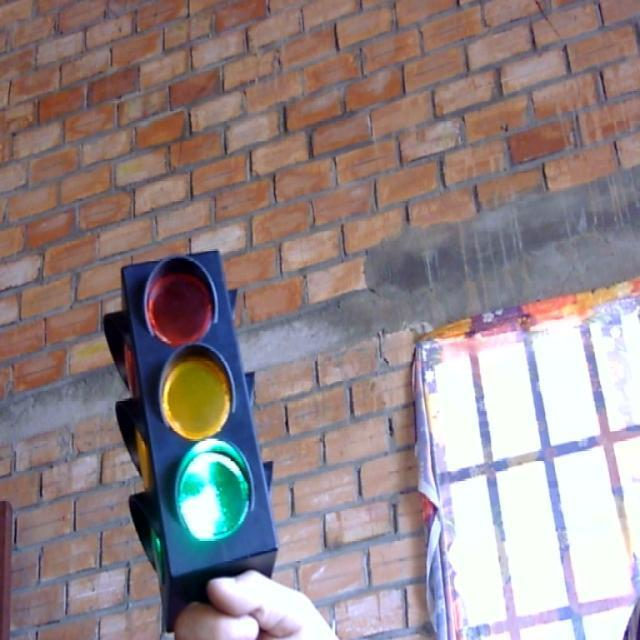green_light: (94, 238, 284, 592)
